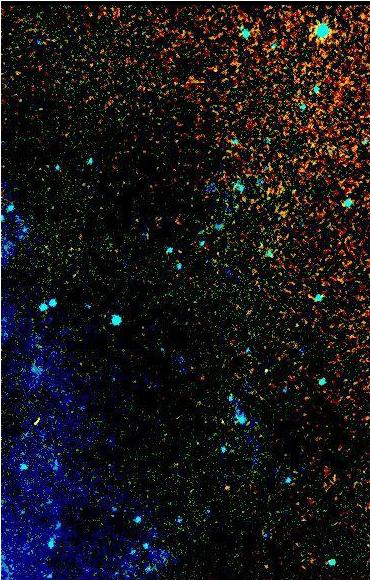star: (210, 471, 240, 501)
